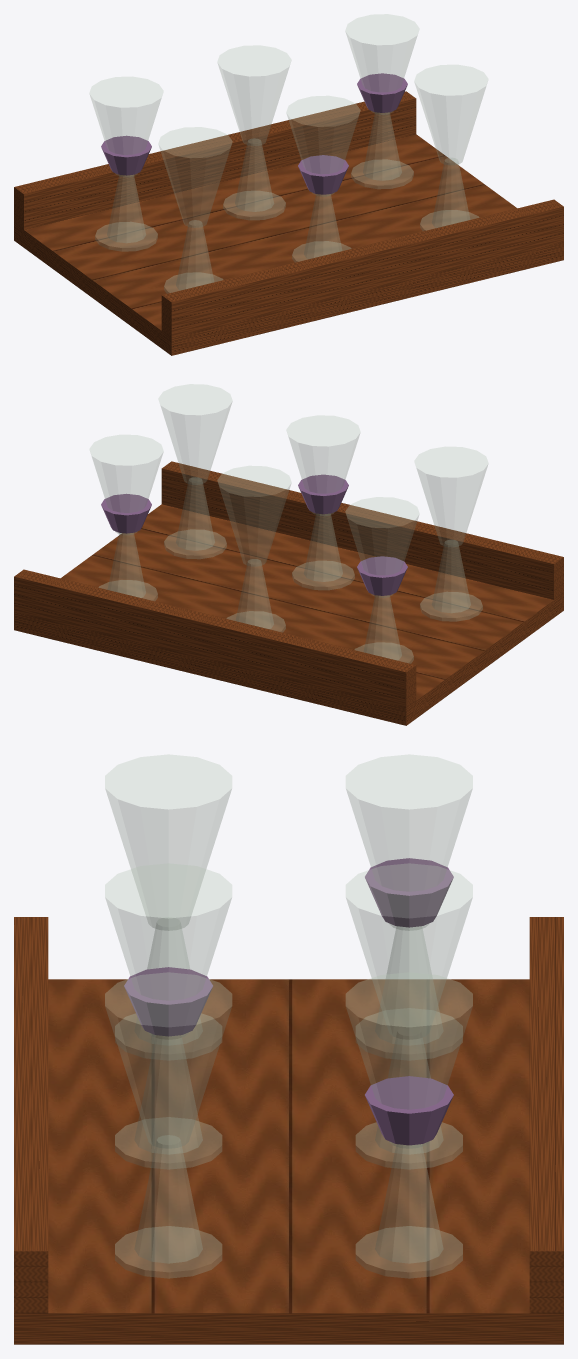
Rendered from tasting-glasses.glb.
3 renders of one model, top to bottom at view 1: azimuth 30°, elevation 25°; view 2: azimuth 150°, elevation 25°; view 3: azimuth 270°, elevation 25°, orthographic. The views are drawn at different scales.
Visible parts, largest first — view 1: tasting-glasses-oak, tasting-glasses-glass, tasting-glasses-grape; view 2: tasting-glasses-oak, tasting-glasses-glass, tasting-glasses-grape; view 3: tasting-glasses-oak, tasting-glasses-glass, tasting-glasses-grape.
Part boxes in pixels (left/top/right/bottom): tasting-glasses-oak: left=14, top=91, right=563, bottom=355; tasting-glasses-glass: left=89, top=14, right=488, bottom=293; tasting-glasses-grape: left=101, top=73, right=407, bottom=194; tasting-glasses-oak: left=14, top=461, right=563, bottom=725; tasting-glasses-glass: left=89, top=384, right=488, bottom=663; tasting-glasses-grape: left=101, top=474, right=407, bottom=595; tasting-glasses-oak: left=14, top=917, right=563, bottom=1344; tasting-glasses-glass: left=105, top=754, right=472, bottom=1278; tasting-glasses-grape: left=124, top=858, right=453, bottom=1145.
Size of the model in its own units: 0.46 by 0.184 by 0.32.
3 materials, 1 textured.
